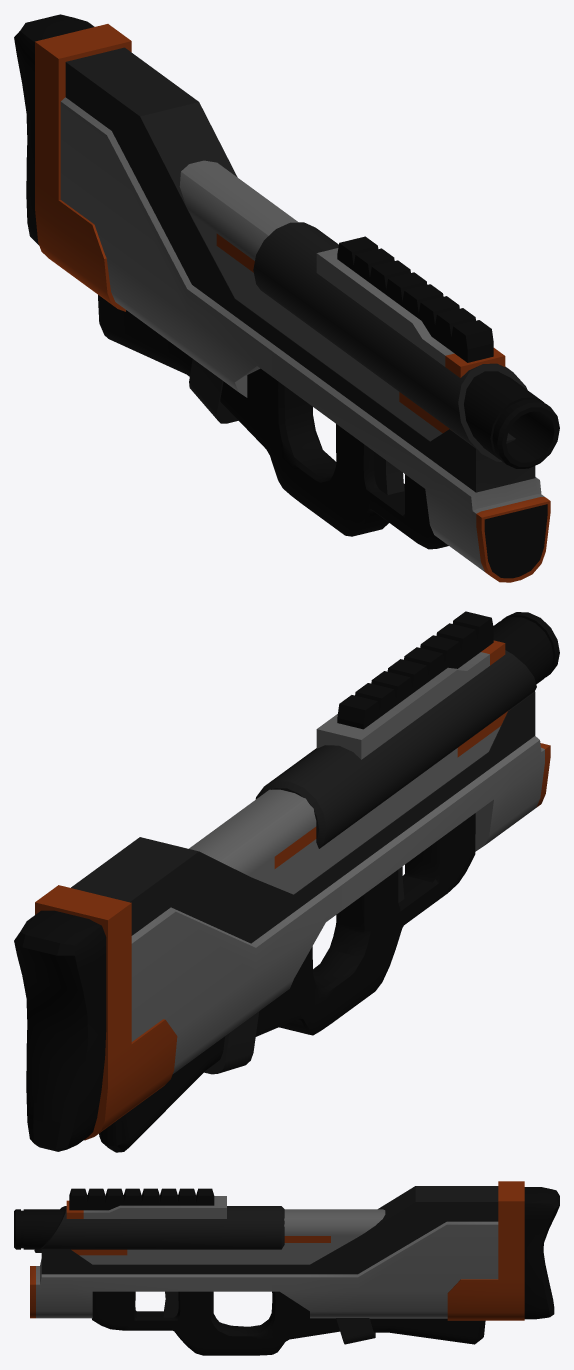
The model's file is Grenade_3.fbx.
3 views of the same model, one above another, from view 1: azimuth 30°, elevation 25°; view 2: azimuth 150°, elevation 25°; view 3: azimuth 270°, elevation 25° (orthographic). The views are drawn at different scales.
Parts seen in each view (by area): view 1: Grenade_3; view 2: Grenade_3; view 3: Grenade_3.
Boxes of the visible parts, bbox=[...] form: Grenade_3: bbox=[14, 14, 559, 582]; Grenade_3: bbox=[14, 611, 559, 1152]; Grenade_3: bbox=[14, 1181, 559, 1355].
Size of the model in its own units: 0.1459 by 0.5475 by 1.69.
